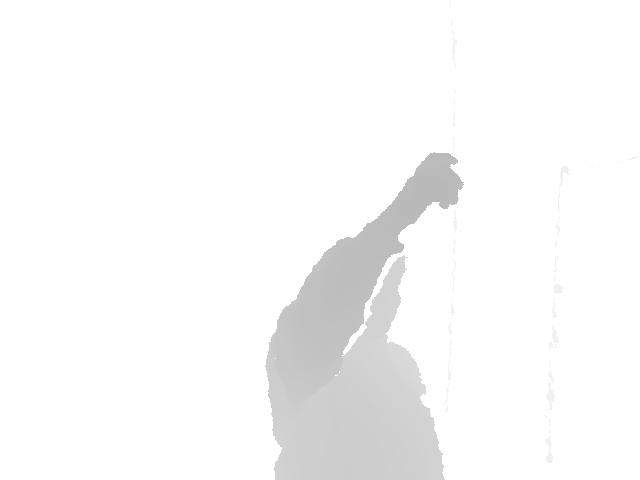hand: (388, 151, 465, 233)
head: (303, 236, 407, 337)
person: (264, 150, 465, 479)
